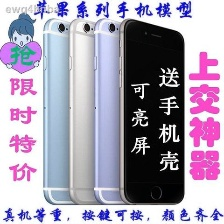phone: (88, 14, 159, 207), (115, 16, 185, 207), (64, 15, 133, 205), (38, 15, 99, 205)
